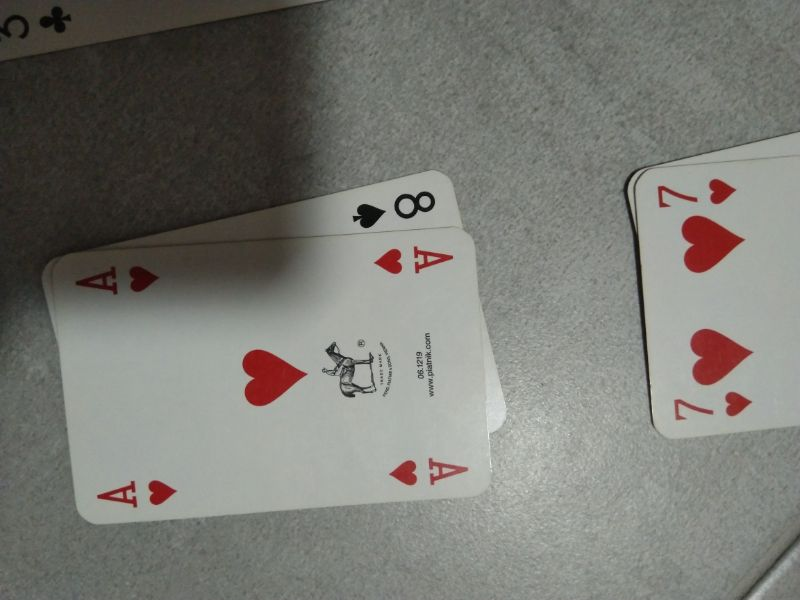7h: (646, 168, 741, 214), (665, 385, 764, 427)
8s: (346, 180, 450, 235)
Ah: (66, 254, 166, 300), (366, 234, 461, 280), (88, 471, 186, 512), (380, 450, 477, 491)
